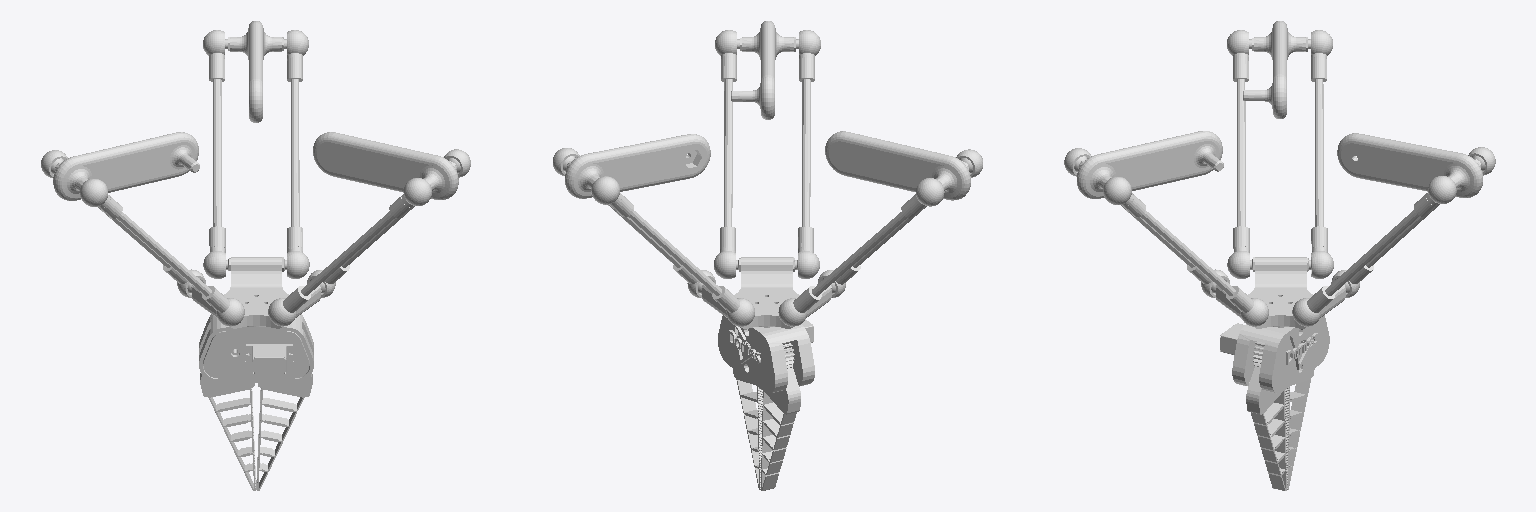
robot.urdf — doritos_mk2:
<?xml version="1.0" encoding="utf-8"?>
<!-- This URDF was automatically created by SolidWorks to URDF Exporter! Originally created by Stephen Brawner (brawner@gmail.com) 
     Commit Version: 1.6.0-4-g7f85cfe  Build Version: 1.6.7995.38578
     For more information, please see http://wiki.ros.org/sw_urdf_exporter -->
<robot
  name="doritos_mk2">
  <link
    name="base_link">
    <inertial>
      <origin
        xyz="0.000666350210756228 -0.00233647748253474 -0.0721450971913769"
        rpy="0 0 0" />
      <mass
        value="1.51650893419613" />
      <inertia
        ixx="0.00802866823936534"
        ixy="-5.2140410997643E-06"
        ixz="3.88552418406049E-06"
        iyy="0.00806034512163369"
        iyz="-1.47248510067451E-05"
        izz="0.0116698719091758" />
    </inertial>
    <visual>
      <origin
        xyz="0 0 0"
        rpy="0 0 0" />
      <geometry>
        <mesh
          filename="package://doritos_mk2/meshes/base_link.STL" />
      </geometry>
      <material
        name="">
        <color
          rgba="0.894117647058823 0.894117647058823 0.894117647058823 1" />
      </material>
    </visual>
    <collision>
      <origin
        xyz="0 0 0"
        rpy="0 0 0" />
      <geometry>
        <mesh
          filename="package://doritos_mk2/meshes/base_link.STL" />
      </geometry>
    </collision>
  </link>
  <link
    name="stepper_link_1">
    <inertial>
      <origin
        xyz="-0.0441699026757919 0.000734864413863612 -0.0165926967109177"
        rpy="0 0 0" />
      <mass
        value="0.0370136582432435" />
      <inertia
        ixx="3.12123829676031E-06"
        ixy="5.08568627155768E-07"
        ixz="-6.16706273441E-07"
        iyy="3.36809139584535E-05"
        iyz="1.02602737996819E-08"
        izz="3.50908182309386E-05" />
    </inertial>
    <visual>
      <origin
        xyz="0 0 0"
        rpy="0 0 0" />
      <geometry>
        <mesh
          filename="package://doritos_mk2/meshes/stepper_link_1.STL" />
      </geometry>
      <material
        name="">
        <color
          rgba="0.894117647058823 0.894117647058823 0.894117647058823 1" />
      </material>
    </visual>
    <collision>
      <origin
        xyz="0 0 0"
        rpy="0 0 0" />
      <geometry>
        <mesh
          filename="package://doritos_mk2/meshes/stepper_link_1.STL" />
      </geometry>
    </collision>
  </link>
  <joint
    name="stepper_joint_1"
    type="continuous">
    <origin
      xyz="0.0452224318643407 -0.0443275496308621 -0.0579999999999925"
      rpy="1.57079632679489 0 2.0943951023932" />
    <parent
      link="base_link" />
    <child
      link="stepper_link_1" />
    <axis
      xyz="0 0 1" />
  </joint>
  <link
    name="right_link_1">
    <inertial>
      <origin
        xyz="0.0528663323357675 -0.0571415921325875 0.00111840945299271"
        rpy="0 0 0" />
      <mass
        value="0.0096597651133856" />
      <inertia
        ixx="2.59571055938518E-06"
        ixy="2.19926971307666E-06"
        ixz="-1.50945318617451E-08"
        iyy="2.25292290559056E-06"
        iyz="1.66732261686969E-08"
        izz="4.67333119708773E-06" />
    </inertial>
    <visual>
      <origin
        xyz="0 0 0"
        rpy="0 0 0" />
      <geometry>
        <mesh
          filename="package://doritos_mk2/meshes/right_link_1.STL" />
      </geometry>
      <material
        name="">
        <color
          rgba="0.894117647058823 0.894117647058823 0.894117647058823 1" />
      </material>
    </visual>
    <collision>
      <origin
        xyz="0 0 0"
        rpy="0 0 0" />
      <geometry>
        <mesh
          filename="package://doritos_mk2/meshes/right_link_1.STL" />
      </geometry>
    </collision>
  </link>
  <joint
    name="right_joint_1"
    type="continuous">
    <origin
      xyz="-0.0799889341570513 0.00133079453105545 0.00903081744789805"
      rpy="0 0 0" />
    <parent
      link="stepper_link_1" />
    <child
      link="right_link_1" />
    <axis
      xyz="0.731856335636987 0.677545199908743 0.072930145129584" />
  </joint>
  <link
    name="buffer_link_1">
    <inertial>
      <origin
        xyz="1.56565538311781E-10 1.44678713454027E-10 0.000159987489600055"
        rpy="0 0 0" />
      <mass
        value="0.00102265385859043" />
      <inertia
        ixx="1.59789665404754E-08"
        ixy="-1.17549435082229E-38"
        ixz="-4.13590306276748E-25"
        iyy="1.59789665404754E-08"
        iyz="0"
        izz="1.59789665404754E-08" />
    </inertial>
    <visual>
      <origin
        xyz="0 0 0"
        rpy="0 0 0" />
      <geometry>
        <mesh
          filename="package://doritos_mk2/meshes/buffer_link_1.STL" />
      </geometry>
      <material
        name="">
        <color
          rgba="0.894117647058823 0.894117647058823 0.894117647058823 1" />
      </material>
    </visual>
    <collision>
      <origin
        xyz="0 0 0"
        rpy="0 0 0" />
      <geometry>
        <mesh
          filename="package://doritos_mk2/meshes/buffer_link_1.STL" />
      </geometry>
    </collision>
  </link>
  <joint
    name="buffer_joint_1"
    type="continuous">
    <origin
      xyz="0.105732013812519 -0.114291792145172 0.000785813818592801"
      rpy="0 0 0" />
    <parent
      link="right_link_1" />
    <child
      link="buffer_link_1" />
    <axis
      xyz="0 1 0" />
  </joint>
  <link
    name="left_link_1">
    <inertial>
      <origin
        xyz="0.0528656149880057 -0.057150177472719 -0.000332595362884797"
        rpy="0 0 0" />
      <mass
        value="0.00965976648912766" />
      <inertia
        ixx="2.59568246111661E-06"
        ixy="2.19927175065307E-06"
        ixz="-1.50882724982191E-08"
        iyy="2.25295068761005E-06"
        iyz="1.66662643455242E-08"
        izz="4.67333103108257E-06" />
    </inertial>
    <visual>
      <origin
        xyz="0 0 0"
        rpy="0 0 0" />
      <geometry>
        <mesh
          filename="package://doritos_mk2/meshes/left_link_1.STL" />
      </geometry>
      <material
        name="">
        <color
          rgba="0.894117647058823 0.894117647058823 0.894117647058823 1" />
      </material>
    </visual>
    <collision>
      <origin
        xyz="0 0 0"
        rpy="0 0 0" />
      <geometry>
        <mesh
          filename="package://doritos_mk2/meshes/left_link_1.STL" />
      </geometry>
    </collision>
  </link>
  <joint
    name="left_joint_1"
    type="continuous">
    <origin
      xyz="-0.0799889339060277 0.00133079848229811 -0.0430308313919701"
      rpy="0 0 0" />
    <parent
      link="stepper_link_1" />
    <child
      link="left_link_1" />
    <axis
      xyz="0.731867521824822 0.677554561719078 0.0727306427282319" />
  </joint>
  <link
    name="gripper_link">
    <inertial>
      <origin
        xyz="0.0341024384595902 -0.0263807695753204 0.0250790248173186"
        rpy="0 0 0" />
      <mass
        value="0.105456847213634" />
      <inertia
        ixx="3.33718782111917E-05"
        ixy="3.52583430747584E-07"
        ixz="6.80255114611308E-06"
        iyy="5.47682158648942E-05"
        iyz="7.26963144346707E-07"
        izz="4.1031797217604E-05" />
    </inertial>
    <visual>
      <origin
        xyz="0 0 0"
        rpy="0 0 0" />
      <geometry>
        <mesh
          filename="package://doritos_mk2/meshes/gripper_link.STL" />
      </geometry>
      <material
        name="">
        <color
          rgba="0.894117647058823 0.894117647058823 0.894117647058823 1" />
      </material>
    </visual>
    <collision>
      <origin
        xyz="0 0 0"
        rpy="0 0 0" />
      <geometry>
        <mesh
          filename="package://doritos_mk2/meshes/gripper_link.STL" />
      </geometry>
    </collision>
  </link>
  <joint
    name="gripper_joint"
    type="continuous">
    <origin
      xyz="0.105731963309902 -0.114291838863073 0.000785814206828633"
      rpy="0 0 0" />
    <parent
      link="left_link_1" />
    <child
      link="gripper_link" />
    <axis
      xyz="0.483798888777823 0.727148603602628 0.487025198009397" />
  </joint>
  <link
    name="left_tip_link">
    <inertial>
      <origin
        xyz="-0.00321659274975095 -0.0113742629340172 5.55111512312578E-17"
        rpy="0 0 0" />
      <mass
        value="0.0122108352099973" />
      <inertia
        ixx="2.12898781908147E-06"
        ixy="-5.12593703605801E-07"
        ixz="3.9104660491974E-21"
        iyy="1.09812966791197E-06"
        iyz="-1.59629005629444E-21"
        izz="3.02360356682681E-06" />
    </inertial>
    <visual>
      <origin
        xyz="0 0 0"
        rpy="0 0 0" />
      <geometry>
        <mesh
          filename="package://doritos_mk2/meshes/left_tip_link.STL" />
      </geometry>
      <material
        name="">
        <color
          rgba="0.894117647058823 0.894117647058823 0.894117647058823 1" />
      </material>
    </visual>
    <collision>
      <origin
        xyz="0 0 0"
        rpy="0 0 0" />
      <geometry>
        <mesh
          filename="package://doritos_mk2/meshes/left_tip_link.STL" />
      </geometry>
    </collision>
  </link>
  <joint
    name="left_tip_joint"
    type="continuous">
    <origin
      xyz="0.0474353275903836 -0.0419999138299398 0.0190308176469913"
      rpy="-3.14159109808288 -0.52359975420864 3.14159265358979" />
    <parent
      link="gripper_link" />
    <child
      link="left_tip_link" />
    <axis
      xyz="0 0 0.999999999993893" />
  </joint>
  <link
    name="right_tip_link">
    <inertial>
      <origin
        xyz="0.00361579174547078 -0.0127029855345779 0.00120800981779368"
        rpy="0 0 0" />
      <mass
        value="0.0108947398917087" />
      <inertia
        ixx="1.90097775103117E-06"
        ixy="4.57625496504311E-07"
        ixz="-1.15024015328759E-08"
        iyy="1.02085688721378E-06"
        iyz="4.04101924475998E-08"
        izz="2.75059645888704E-06" />
    </inertial>
    <visual>
      <origin
        xyz="0 0 0"
        rpy="0 0 0" />
      <geometry>
        <mesh
          filename="package://doritos_mk2/meshes/right_tip_link.STL" />
      </geometry>
      <material
        name="">
        <color
          rgba="0.894117647058823 0.894117647058823 0.894117647058823 1" />
      </material>
    </visual>
    <collision>
      <origin
        xyz="0 0 0"
        rpy="0 0 0" />
      <geometry>
        <mesh
          filename="package://doritos_mk2/meshes/right_tip_link.STL" />
      </geometry>
    </collision>
  </link>
  <joint
    name="right_tip_joint"
    type="continuous">
    <origin
      xyz="0.0239366360159801 -0.0419999371599868 0.0343298793945149"
      rpy="-3.1415916093844 -0.523599754209797 -3.14159163098849" />
    <parent
      link="gripper_link" />
    <child
      link="right_tip_link" />
    <axis
      xyz="0 0 0.999999999993893" />
  </joint>
  <link
    name="stepper_link_2">
    <inertial>
      <origin
        xyz="-0.0441739782439768 0.000424233004006513 -0.0165926967126432"
        rpy="0 0 0" />
      <mass
        value="0.0370136582328562" />
      <inertia
        ixx="3.11559697102952E-06"
        ixy="2.93620751592681E-07"
        ixz="-6.16763175139559E-07"
        iyy="3.36865552838303E-05"
        iyz="5.92319531301857E-09"
        izz="3.50908182309218E-05" />
    </inertial>
    <visual>
      <origin
        xyz="0 0 0"
        rpy="0 0 0" />
      <geometry>
        <mesh
          filename="package://doritos_mk2/meshes/stepper_link_2.STL" />
      </geometry>
      <material
        name="">
        <color
          rgba="0.894117647058823 0.894117647058823 0.894117647058823 1" />
      </material>
    </visual>
    <collision>
      <origin
        xyz="0 0 0"
        rpy="0 0 0" />
      <geometry>
        <mesh
          filename="package://doritos_mk2/meshes/stepper_link_2.STL" />
      </geometry>
    </collision>
  </link>
  <joint
    name="stepper_joint_2"
    type="continuous">
    <origin
      xyz="-0.0609999999999855 -0.0170000000000011 -0.0579999999999909"
      rpy="1.5707963267949 0 0" />
    <parent
      link="base_link" />
    <child
      link="stepper_link_2" />
    <axis
      xyz="0 0 1" />
  </joint>
  <link
    name="right_link_2">
    <inertial>
      <origin
        xyz="0.0531718770623258 -0.0568646967742479 0.000505729106871966"
        rpy="0 0 0" />
      <mass
        value="0.00965976520398288" />
      <inertia
        ixx="2.5722874341266E-06"
        ixy="2.20100571867161E-06"
        ixz="8.68228383895112E-09"
        iyy="2.27626703003086E-06"
        iyz="-9.09457486142198E-09"
        izz="4.673410221932E-06" />
    </inertial>
    <visual>
      <origin
        xyz="0 0 0"
        rpy="0 0 0" />
      <geometry>
        <mesh
          filename="package://doritos_mk2/meshes/right_link_2.STL" />
      </geometry>
      <material
        name="">
        <color
          rgba="0.894117647058823 0.894117647058823 0.894117647058823 1" />
      </material>
    </visual>
    <collision>
      <origin
        xyz="0 0 0"
        rpy="0 0 0" />
      <geometry>
        <mesh
          filename="package://doritos_mk2/meshes/right_link_2.STL" />
      </geometry>
    </collision>
  </link>
  <joint
    name="right_joint_2"
    type="continuous">
    <origin
      xyz="-0.0799963147746872 0.000768260462808534 0.0090308174478978"
      rpy="0 0 0" />
    <parent
      link="stepper_link_2" />
    <child
      link="right_link_2" />
    <axis
      xyz="0.707854280258824 0.662800527501391 -0.244208473774231" />
  </joint>
  <link
    name="buffer_link_2">
    <inertial>
      <origin
        xyz="1.56565316267177E-10 -2.86362267232221E-10 0.000159987489599445"
        rpy="0 0 0" />
      <mass
        value="0.00102265385859043" />
      <inertia
        ixx="1.59789665404754E-08"
        ixy="0"
        ixz="4.1325973271096E-37"
        iyy="1.59789665404754E-08"
        iyz="0"
        izz="1.59789665404754E-08" />
    </inertial>
    <visual>
      <origin
        xyz="0 0 0"
        rpy="0 0 0" />
      <geometry>
        <mesh
          filename="package://doritos_mk2/meshes/buffer_link_2.STL" />
      </geometry>
      <material
        name="">
        <color
          rgba="0.894117647058823 0.894117647058823 0.894117647058823 1" />
      </material>
    </visual>
    <collision>
      <origin
        xyz="0 0 0"
        rpy="0 0 0" />
      <geometry>
        <mesh
          filename="package://doritos_mk2/meshes/buffer_link_2.STL" />
      </geometry>
    </collision>
  </link>
  <joint
    name="buffer_joint_2"
    type="continuous">
    <origin
      xyz="0.106338986520719 -0.113729275187162 -0.000439565694554944"
      rpy="0 0 0" />
    <parent
      link="right_link_2" />
    <child
      link="buffer_link_2" />
    <axis
      xyz="0 1 0" />
  </joint>
  <link
    name="left_link_2">
    <inertial>
      <origin
        xyz="0.0531670786738391 -0.0568645288799894 -0.000945294320995771"
        rpy="0 0 0" />
      <mass
        value="0.00965976661922167" />
      <inertia
        ixx="2.57225679126701E-06"
        ixy="2.20100763187596E-06"
        ixz="8.68871745729538E-09"
        iyy="2.27629764545002E-06"
        iyz="-9.10131514189798E-09"
        izz="4.67341004541302E-06" />
    </inertial>
    <visual>
      <origin
        xyz="0 0 0"
        rpy="0 0 0" />
      <geometry>
        <mesh
          filename="package://doritos_mk2/meshes/left_link_2.STL" />
      </geometry>
      <material
        name="">
        <color
          rgba="0.894117647058823 0.894117647058823 0.894117647058823 1" />
      </material>
    </visual>
    <collision>
      <origin
        xyz="0 0 0"
        rpy="0 0 0" />
      <geometry>
        <mesh
          filename="package://doritos_mk2/meshes/left_link_2.STL" />
      </geometry>
    </collision>
  </link>
  <joint
    name="left_joint_2"
    type="continuous">
    <origin
      xyz="-0.0799963145514557 0.000768264415718756 -0.0430308313919702"
      rpy="0 0 0" />
    <parent
      link="stepper_link_2" />
    <child
      link="left_link_2" />
    <axis
      xyz="0.708407053008025 0.663306254390772 -0.241214137509744" />
  </joint>
  <link
    name="buffer_link_3">
    <inertial>
      <origin
        xyz="3.59002716443513E-10 -1.36443079057358E-10 -0.0001599874896"
        rpy="0 0 0" />
      <mass
        value="0.00102265385859043" />
      <inertia
        ixx="1.59789665404754E-08"
        ixy="0"
        ixz="4.1325973271096E-37"
        iyy="1.59789665404754E-08"
        iyz="0"
        izz="1.59789665404754E-08" />
    </inertial>
    <visual>
      <origin
        xyz="0 0 0"
        rpy="0 0 0" />
      <geometry>
        <mesh
          filename="package://doritos_mk2/meshes/buffer_link_3.STL" />
      </geometry>
      <material
        name="">
        <color
          rgba="0.894117647058823 0.894117647058823 0.894117647058823 1" />
      </material>
    </visual>
    <collision>
      <origin
        xyz="0 0 0"
        rpy="0 0 0" />
      <geometry>
        <mesh
          filename="package://doritos_mk2/meshes/buffer_link_3.STL" />
      </geometry>
    </collision>
  </link>
  <joint
    name="buffer_joint_3"
    type="continuous">
    <origin
      xyz="0.106338934772755 -0.113729185478581 -0.000439561584581249"
      rpy="0 0 0" />
    <parent
      link="left_link_2" />
    <child
      link="buffer_link_3" />
    <axis
      xyz="0 1 0" />
  </joint>
  <link
    name="dc_link">
    <inertial>
      <origin
        xyz="-0.0469103958201728 0.00243273224304286 -0.0105619401606405"
        rpy="0 0 0" />
      <mass
        value="0.0351771156349421" />
      <inertia
        ixx="2.93507917104199E-06"
        ixy="1.32035538140574E-06"
        ixz="5.78444293557189E-08"
        iyy="3.00333752450836E-05"
        iyz="-2.8117907575628E-09"
        izz="3.1711996549672E-05" />
    </inertial>
    <visual>
      <origin
        xyz="0 0 0"
        rpy="0 0 0" />
      <geometry>
        <mesh
          filename="package://doritos_mk2/meshes/dc_link.STL" />
      </geometry>
      <material
        name="">
        <color
          rgba="0.894117647058823 0.894117647058823 0.894117647058823 1" />
      </material>
    </visual>
    <collision>
      <origin
        xyz="0 0 0"
        rpy="0 0 0" />
      <geometry>
        <mesh
          filename="package://doritos_mk2/meshes/dc_link.STL" />
      </geometry>
    </collision>
  </link>
  <joint
    name="dc_joint"
    type="continuous">
    <origin
      xyz="0.0213857162260318 0.0580896843192248 -0.0600000095102151"
      rpy="1.5707963267949 0 -2.09439510239319" />
    <parent
      link="base_link" />
    <child
      link="dc_link" />
    <axis
      xyz="0 0 1" />
  </joint>
  <link
    name="right_link_3">
    <inertial>
      <origin
        xyz="0.0524820198652365 -0.0575014894596062 0.00055245228769385"
        rpy="0 0 0" />
      <mass
        value="0.00965973983571027" />
      <inertia
        ixx="2.62522059724956E-06"
        ixy="2.19681080810797E-06"
        ixz="6.67352033718929E-09"
        iyy="2.22331884783331E-06"
        iyz="-7.31206604384961E-09"
        izz="4.67342265927018E-06" />
    </inertial>
    <visual>
      <origin
        xyz="0 0 0"
        rpy="0 0 0" />
      <geometry>
        <mesh
          filename="package://doritos_mk2/meshes/right_link_3.STL" />
      </geometry>
      <material
        name="">
        <color
          rgba="0.894117647058823 0.894117647058823 0.894117647058823 1" />
      </material>
    </visual>
    <collision>
      <origin
        xyz="0 0 0"
        rpy="0 0 0" />
      <geometry>
        <mesh
          filename="package://doritos_mk2/meshes/right_link_3.STL" />
      </geometry>
    </collision>
  </link>
  <joint
    name="left_link_3"
    type="continuous">
    <origin
      xyz="-0.0799807434244639 0.00404026335369112 0.0155065537352558"
      rpy="0 0 0" />
    <parent
      link="dc_link" />
    <child
      link="right_link_3" />
    <axis
      xyz="0.046916018936789 0.0458239562511344 -0.997847208845431" />
  </joint>
  <link
    name="buffer_link_4">
    <inertial>
      <origin
        xyz="1.56565649334084E-10 1.41684441956613E-10 0.000159987489599778"
        rpy="0 0 0" />
      <mass
        value="0.00102265385859043" />
      <inertia
        ixx="1.59789665404754E-08"
        ixy="0"
        ixz="0"
        iyy="1.59789665404754E-08"
        iyz="4.70197740328915E-38"
        izz="1.59789665404754E-08" />
    </inertial>
    <visual>
      <origin
        xyz="0 0 0"
        rpy="0 0 0" />
      <geometry>
        <mesh
          filename="package://doritos_mk2/meshes/buffer_link_4.STL" />
      </geometry>
      <material
        name="">
        <color
          rgba="0.894117647058823 0.894117647058823 0.894117647058823 1" />
      </material>
    </visual>
    <collision>
      <origin
        xyz="0 0 0"
        rpy="0 0 0" />
      <geometry>
        <mesh
          filename="package://doritos_mk2/meshes/buffer_link_4.STL" />
      </geometry>
    </collision>
  </link>
  <joint
    name="buffer_joint_4"
    type="continuous">
    <origin
      xyz="0.104962400256254 -0.115001150962942 -0.000346134894921191"
      rpy="0 0 0" />
    <parent
      link="right_link_3" />
    <child
      link="buffer_link_4" />
    <axis
      xyz="0 1 0" />
  </joint>
  <link
    name="left_link_3">
    <inertial>
      <origin
        xyz="0.0524803132986446 -0.0574996390803384 -0.000898586970144888"
        rpy="0 0 0" />
      <mass
        value="0.00965974007965741" />
      <inertia
        ixx="2.62519260291201E-06"
        ixy="2.19681334386598E-06"
        ixz="6.67980479852628E-09"
        iyy="2.22334689284441E-06"
        iyz="-7.3188583027953E-09"
        izz="4.67342262250008E-06" />
    </inertial>
    <visual>
      <origin
        xyz="0 0 0"
        rpy="0 0 0" />
      <geometry>
        <mesh
          filename="package://doritos_mk2/meshes/left_link_3.STL" />
      </geometry>
      <material
        name="">
        <color
          rgba="0.894117647058823 0.894117647058823 0.894117647058823 1" />
      </material>
    </visual>
    <collision>
      <origin
        xyz="0 0 0"
        rpy="0 0 0" />
      <geometry>
        <mesh
          filename="package://doritos_mk2/meshes/left_link_3.STL" />
      </geometry>
    </collision>
  </link>
  <joint
    name="left_joint_3"
    type="continuous">
    <origin
      xyz="-0.0799807434244637 0.00404026335368735 -0.0365550909947446"
      rpy="0 0 0" />
    <parent
      link="dc_link" />
    <child
      link="left_link_3" />
    <axis
      xyz="0.0469160777667466 0.0458239704704889 -0.997847205426414" />
  </joint>
  <link
    name="buffer_link_5">
    <inertial>
      <origin
        xyz="-1.56565538311781E-10 -1.41684441956613E-10 -0.000159987489600111"
        rpy="0 0 0" />
      <mass
        value="0.00102265385859043" />
      <inertia
        ixx="1.59789665404754E-08"
        ixy="0"
        ixz="0"
        iyy="1.59789665404754E-08"
        iyz="4.70197740328915E-38"
        izz="1.59789665404754E-08" />
    </inertial>
    <visual>
      <origin
        xyz="0 0 0"
        rpy="0 0 0" />
      <geometry>
        <mesh
          filename="package://doritos_mk2/meshes/buffer_link_5.STL" />
      </geometry>
      <material
        name="">
        <color
          rgba="0.894117647058823 0.894117647058823 0.894117647058823 1" />
      </material>
    </visual>
    <collision>
      <origin
        xyz="0 0 0"
        rpy="0 0 0" />
      <geometry>
        <mesh
          filename="package://doritos_mk2/meshes/buffer_link_5.STL" />
      </geometry>
    </collision>
  </link>
  <joint
    name="buffer_joint_5"
    type="continuous">
    <origin
      xyz="0.104962349424341 -0.115001197360013 -0.000346134894884553"
      rpy="0 0 0" />
    <parent
      link="left_link_3" />
    <child
      link="buffer_link_5" />
    <axis
      xyz="0 1 0" />
  </joint>
</robot>

--- Render facts (derived) ---
The picture shows the robot from 3 angles, left to right: view 1: azimuth 30°, elevation 25°; view 2: azimuth 150°, elevation 25°; view 3: azimuth 270°, elevation 25°; orthographic projection.
Model doritos_mk2 with 18 links and 17 joints (17 continuous), rooted at base_link, posed every joint at zero.
Visible links, largest first — view 1: gripper_link, stepper_link_2, stepper_link_1, right_link_3, left_link_3, right_link_2, left_link_1, dc_link, right_tip_link, left_tip_link, right_link_1, left_link_2; view 2: gripper_link, stepper_link_2, dc_link, left_link_1, right_link_1, left_tip_link, right_link_3, left_link_2, stepper_link_1, right_tip_link, left_link_3, right_link_2; view 3: gripper_link, stepper_link_1, dc_link, left_link_2, right_link_2, right_tip_link, right_link_1, left_link_3, stepper_link_2, left_tip_link, right_link_3, left_link_1.
Boxes of the visible links, x1,y1,x2,y2 form: gripper_link: (187, 257, 325, 382); stepper_link_2: (51, 132, 199, 200); stepper_link_1: (313, 132, 460, 199); right_link_3: (203, 30, 225, 278); left_link_3: (287, 30, 309, 278); right_link_2: (80, 179, 244, 326); left_link_1: (268, 178, 431, 326); dc_link: (225, 21, 286, 122); right_tip_link: (256, 374, 312, 490); left_tip_link: (200, 373, 255, 490); right_link_1: (307, 149, 470, 297); left_link_2: (41, 150, 205, 297); gripper_link: (698, 257, 835, 393); stepper_link_2: (825, 131, 972, 200); dc_link: (563, 134, 710, 198); left_link_1: (798, 30, 820, 278); right_link_1: (714, 30, 736, 278); left_tip_link: (761, 341, 800, 490); right_link_3: (591, 176, 754, 326); left_link_2: (778, 178, 944, 326); stepper_link_1: (731, 21, 798, 119); right_tip_link: (733, 369, 762, 489); left_link_3: (553, 148, 715, 297); right_link_2: (817, 149, 982, 297); gripper_link: (1211, 257, 1349, 393); stepper_link_1: (1074, 131, 1223, 198); dc_link: (1337, 133, 1485, 197); left_link_2: (1311, 30, 1333, 278); right_link_2: (1227, 30, 1249, 278); right_tip_link: (1246, 341, 1286, 490); right_link_1: (1103, 177, 1268, 326); left_link_3: (1292, 176, 1456, 326); stepper_link_2: (1243, 21, 1310, 118); left_tip_link: (1285, 368, 1314, 489); right_link_3: (1331, 147, 1495, 297); left_link_1: (1064, 148, 1229, 297).
Size in the robot's own frame: 0.2598 by 0.2897 by 0.2807 metres.
17 mesh visuals loaded from 18 distinct referenced files (17 binary STL); not drawn: 1 (reference not matched to a file when rendering).
